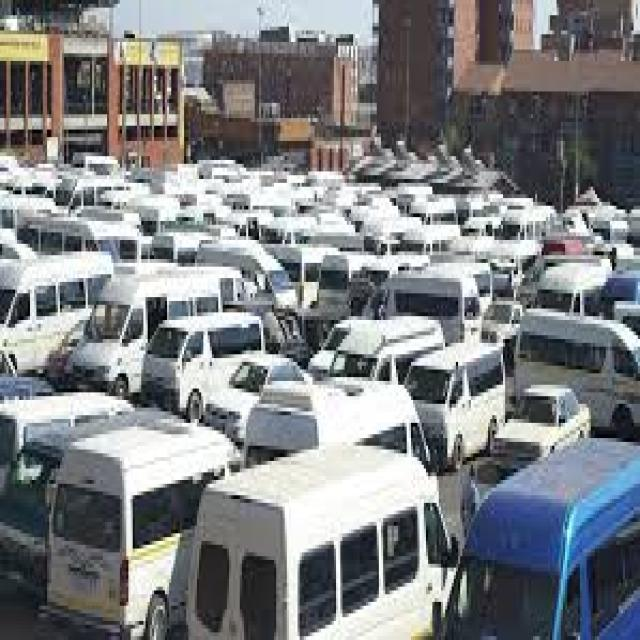MiniBus taxi: (75, 282, 128, 404), (139, 312, 193, 419)
Passenger Car: (492, 381, 597, 472), (202, 350, 250, 442)
